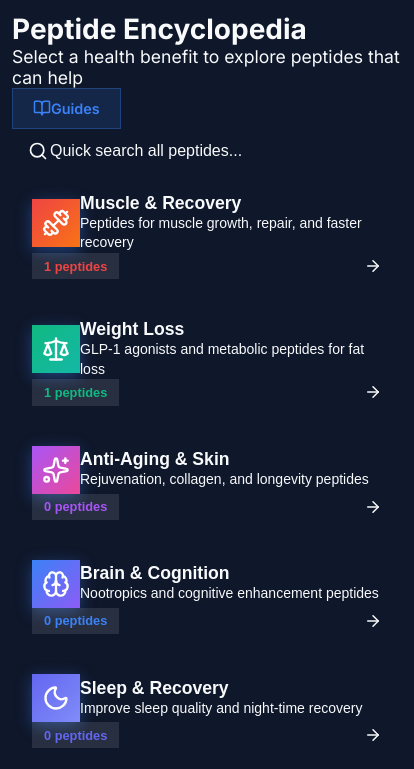
Scenario: Encyclopedia Page › displays categories by default and peptides after search
Expected: the heading "Muscle & Recovery" is shown, left=80, top=193, right=241, bottom=213
Note: Search for a peptide
Type "BPC-157" into the field with placeholder "Quick search all peptides..." at {"x": 217, "y": 151}, box left=48, top=141, right=386, bottom=161
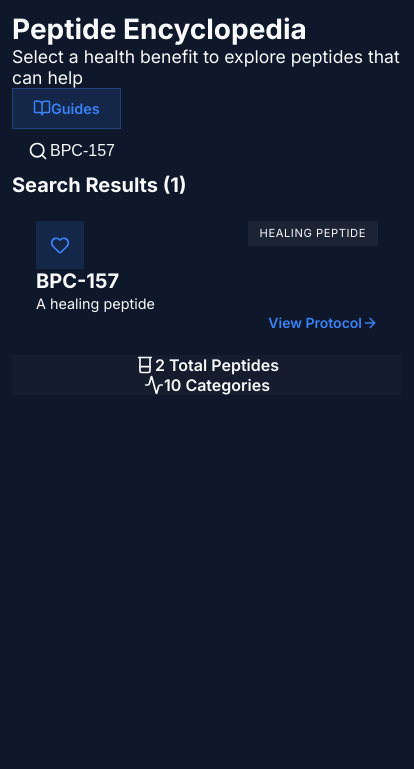
Expected: the heading "BPC-157" is shown, left=36, top=269, right=119, bottom=293
